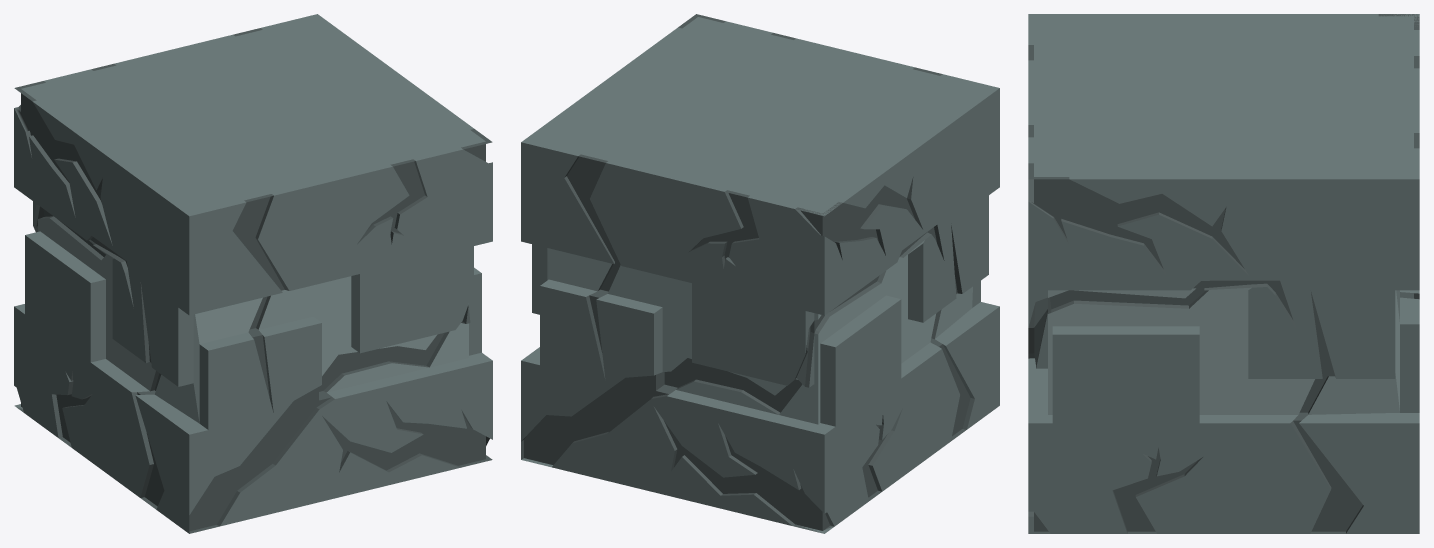
File: CrackedBedrock.fbx
3 renders of one model, left to right at view 1: azimuth 30°, elevation 25°; view 2: azimuth 150°, elevation 25°; view 3: azimuth 270°, elevation 25°, orthographic. The views are drawn at different scales.
Parts seen in each view (by area): view 1: Bedrock Corner R; view 2: Bedrock Corner R; view 3: Bedrock Corner R.
Part boxes in pixels (bbox=[...]): Bedrock Corner R: bbox=[14, 14, 492, 533]; Bedrock Corner R: bbox=[521, 14, 999, 533]; Bedrock Corner R: bbox=[1028, 14, 1419, 533].
Size of the model in its own units: 2 by 2 by 2.
